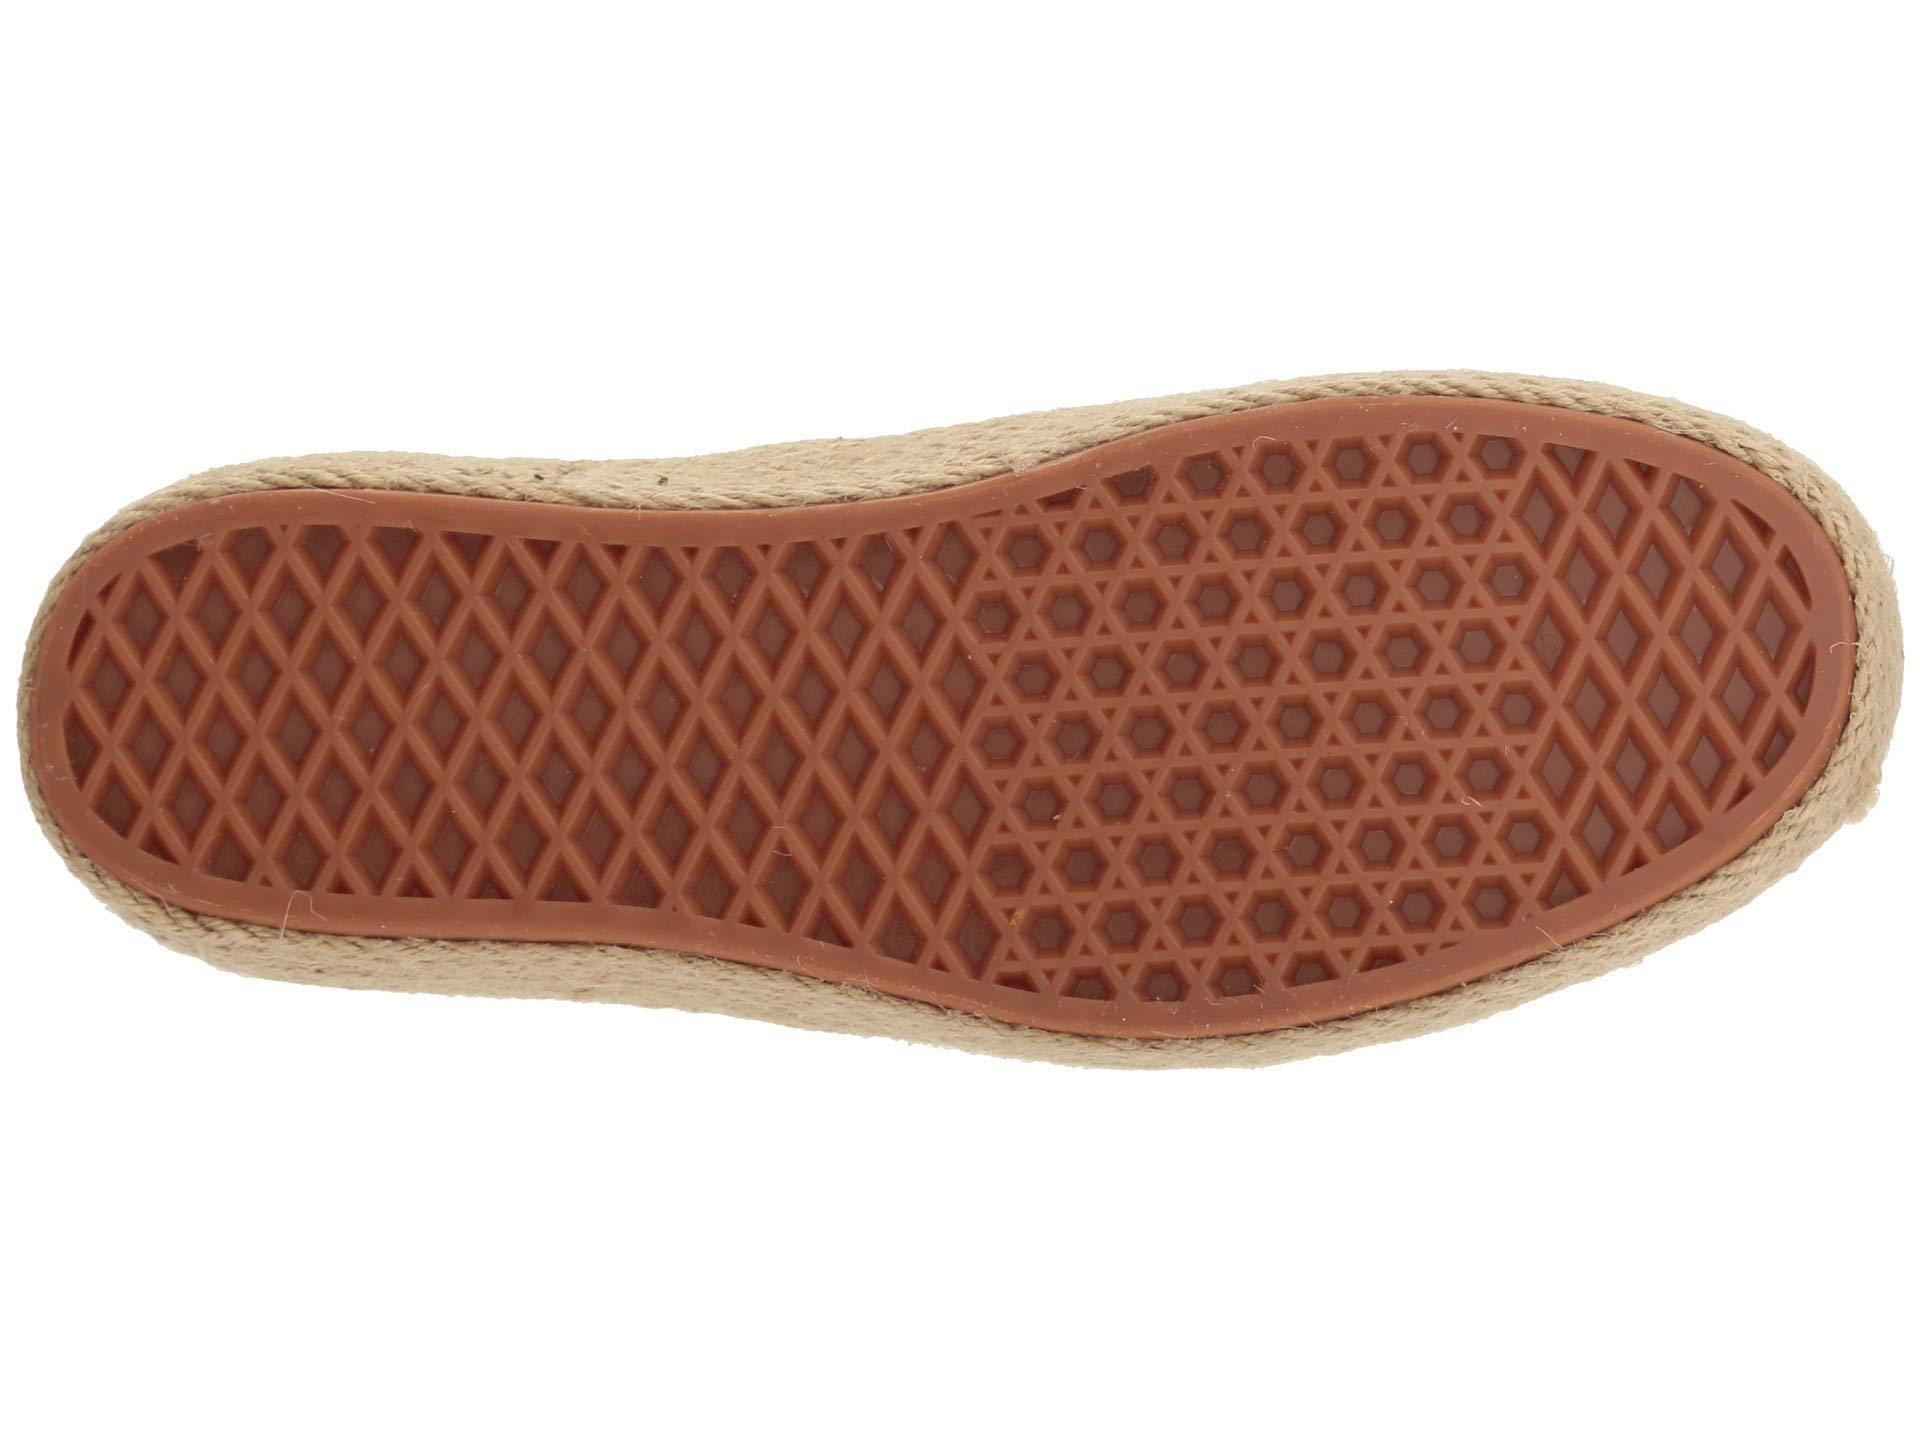polygon: (1079, 529, 1504, 976)
quad: (437, 573, 801, 895)
triangle: (1079, 529, 1504, 976)
